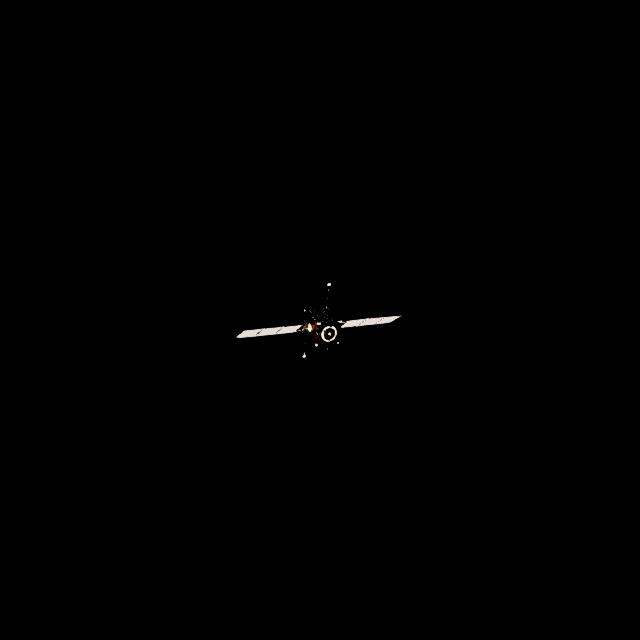satellite: (236, 283, 403, 360)
